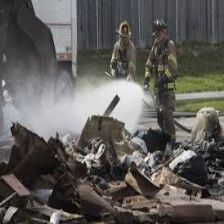smoke: (11, 89, 77, 134)
